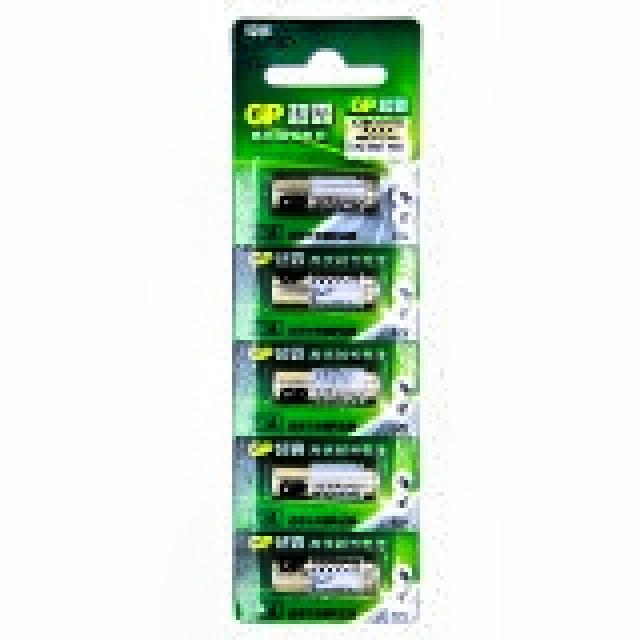Non-Valuable Waste - Batteries: (271, 556, 379, 593), (271, 462, 378, 498), (272, 368, 380, 403), (271, 176, 378, 211), (271, 274, 379, 307)
